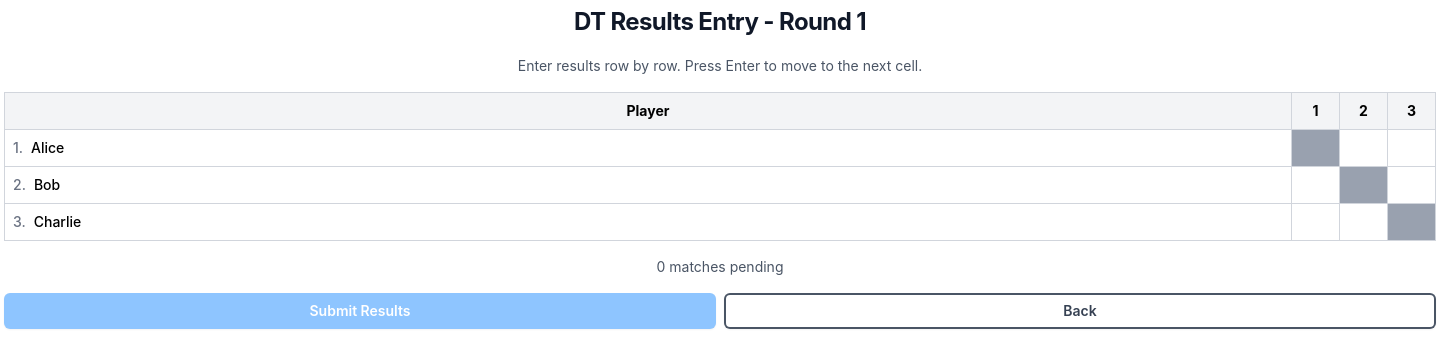
Test: BulkMatchEntry › Pending Matches › should update pending count when entering complete match data
Note: Enter non-equal scores (no draw dialog needed)
Type "5" into the 1st number field at (1364, 148), box [1340,136,1387,160]
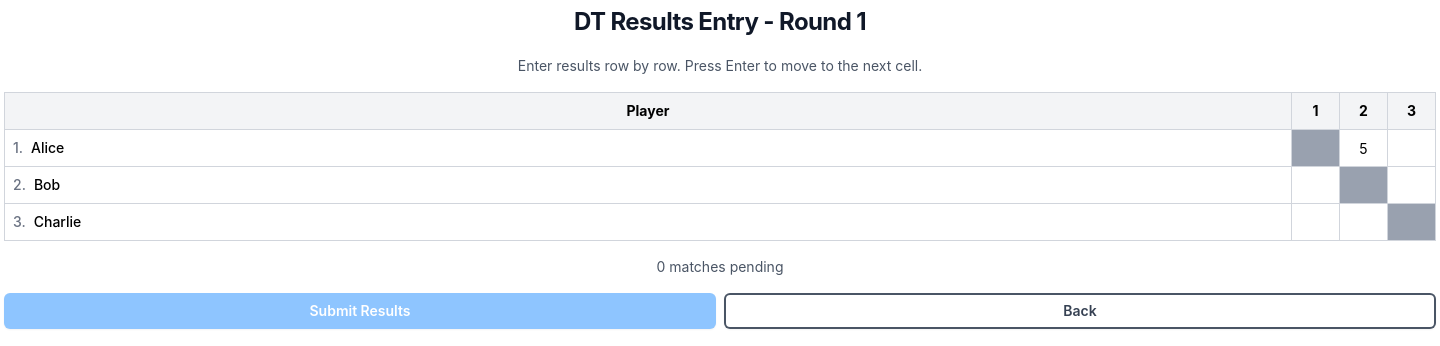
Type "3" into the 3rd number field at (1316, 185), box [1292,172,1339,198]
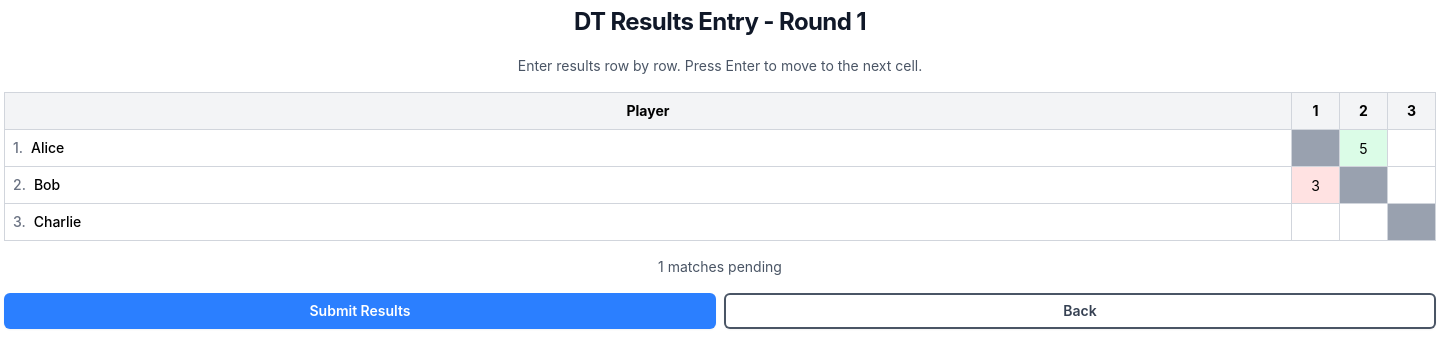
Result: the text "1 matches pending" is shown at [658,258,782,275]
